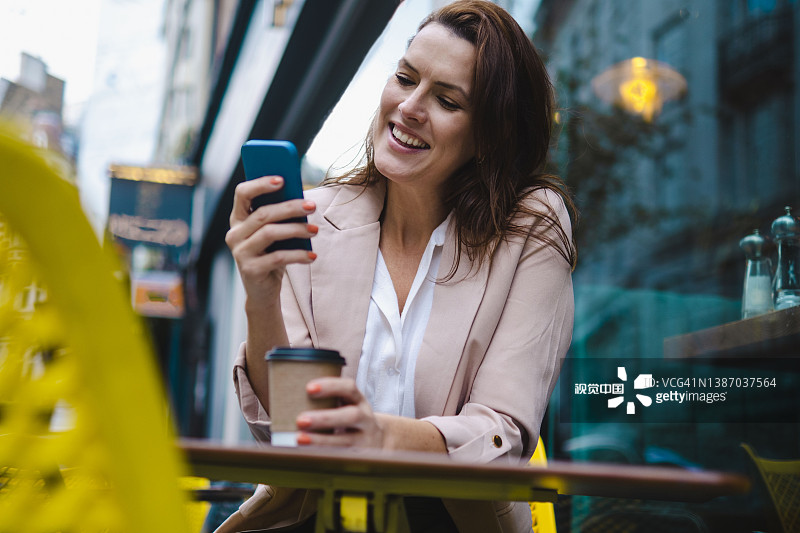no-phone: (260, 336, 394, 454)
reading: (210, 139, 327, 291)
